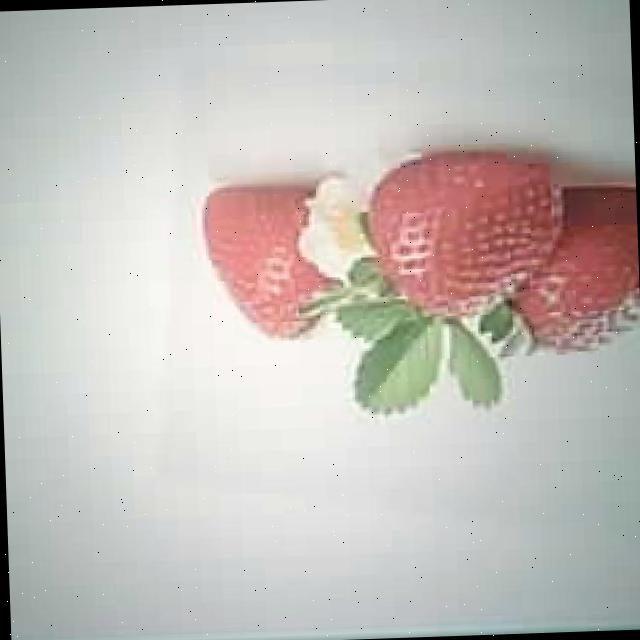strawberry: (363, 152, 568, 323), (200, 185, 345, 344)
